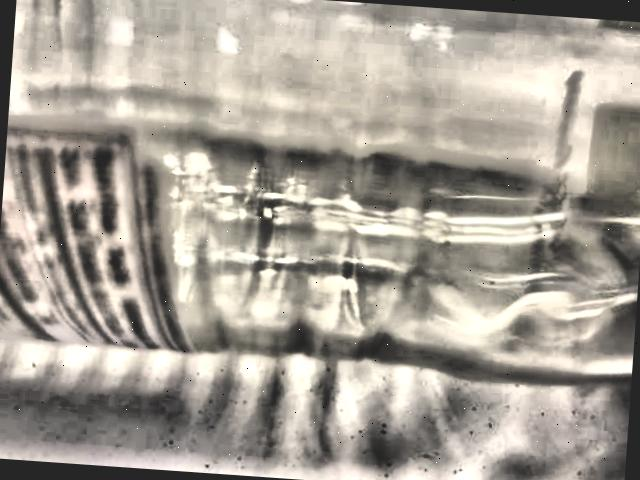Almennt: (0, 0, 640, 401)
